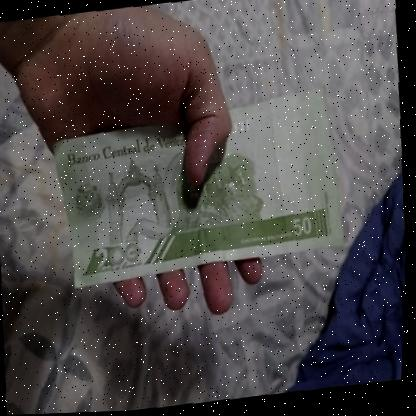fifty-back-vef: (47, 84, 351, 292)
